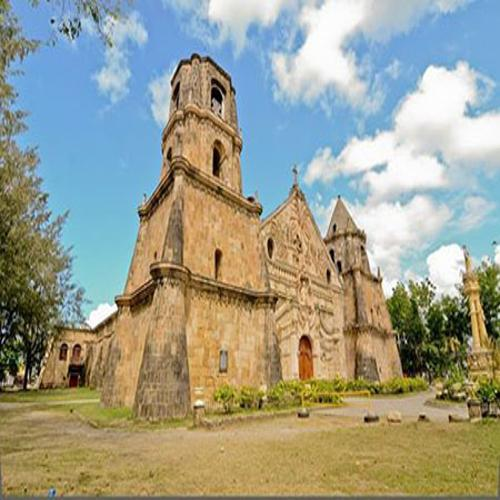Miagao Church: (116, 49, 401, 410)
